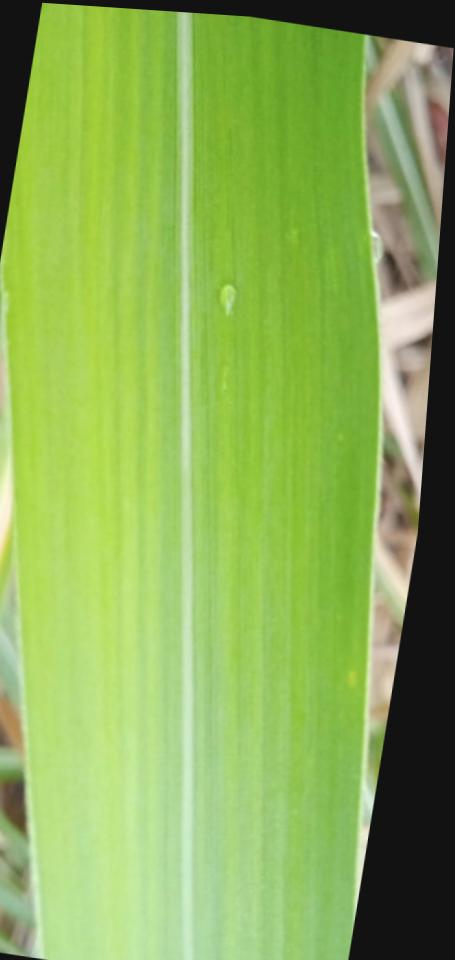Healthy: (0, 3, 381, 960)
